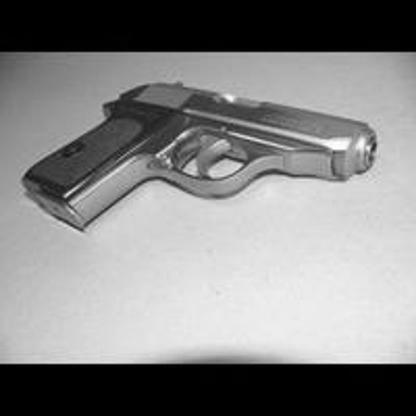weapon: (23, 77, 381, 233)
